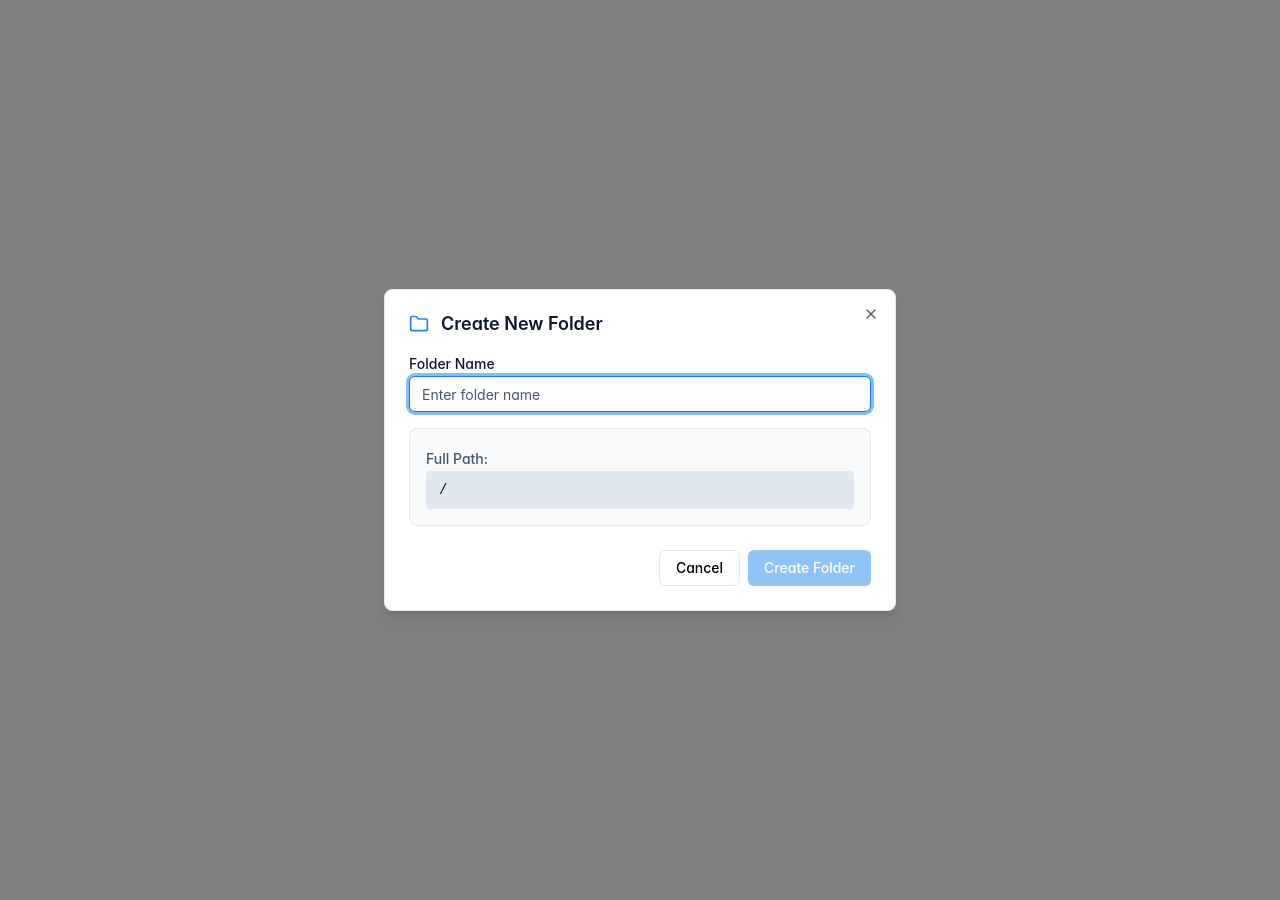
Test case: CreateFolderModal › renders with the create button disabled until a name is entered
The width and height of the screenshot is (1280, 900).
Check: the dialog with test id "create-folder-modal" is shown, box [384, 289, 896, 611]
Check: the heading "Create New Folder" is shown, box [409, 313, 603, 334]
In the field with test id "folder-name": point(640, 394) [409, 376, 871, 412], type "Notes"
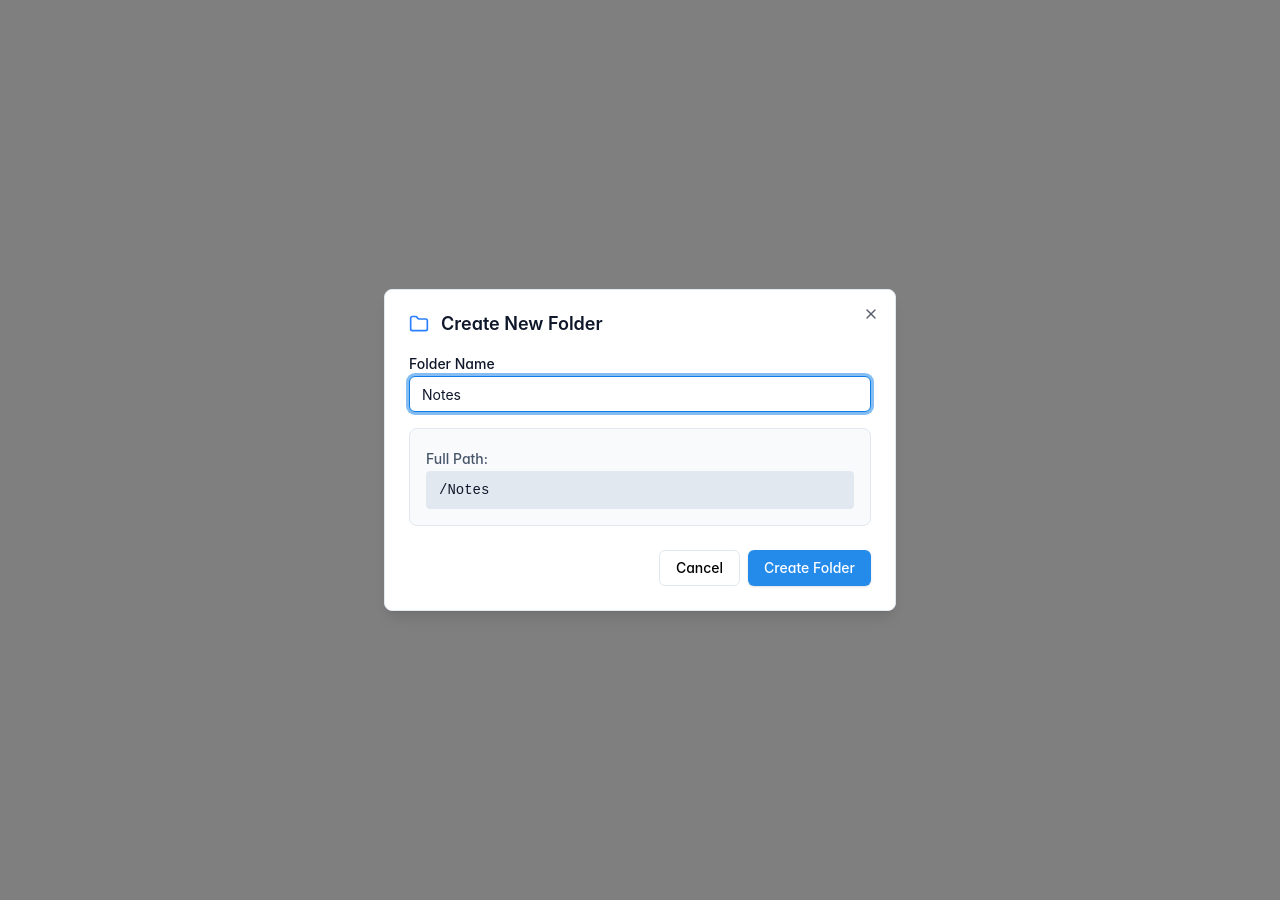
Check: the button with test id "create-folder-btn" is enabled, box [748, 550, 871, 586]
Check: the text "/Notes" is shown, box [426, 471, 854, 509]
